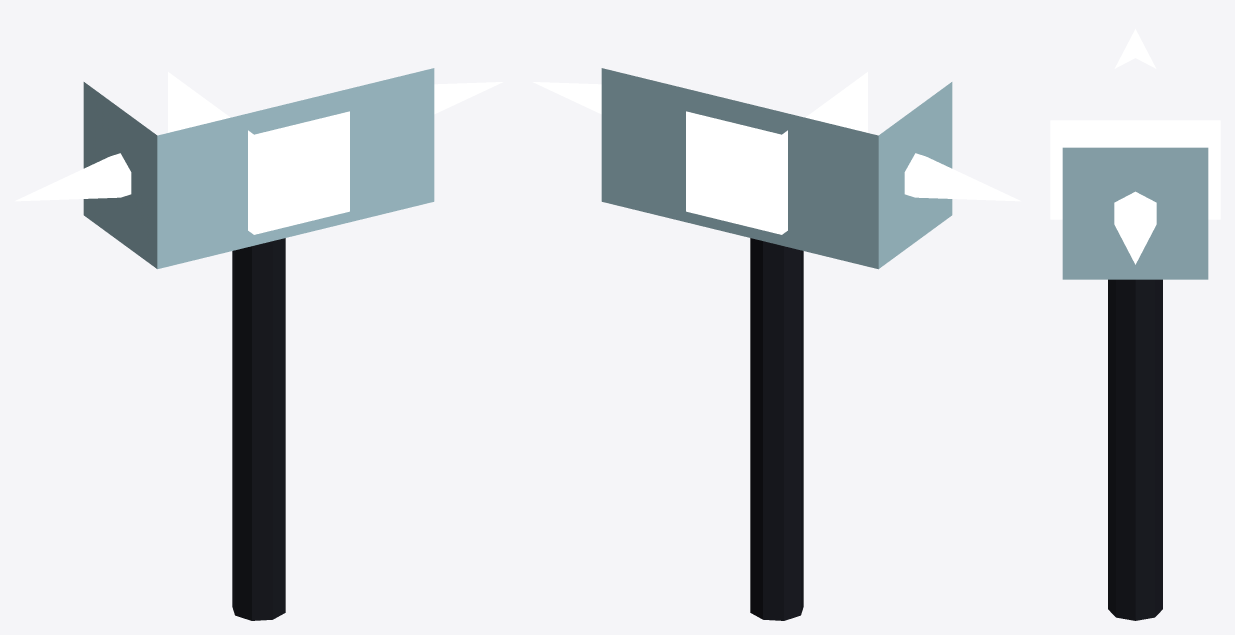
Rendered from mjollnir.glb.
The picture shows the model from 3 angles, left to right: view 1: azimuth 30°, elevation 25°; view 2: azimuth 150°, elevation 25°; view 3: azimuth 270°, elevation 25°; orthographic projection.
Parts seen in each view (by area): view 1: mjollnir-hammer-head, mjollnir-grip, mjollnir-core, mjollnir-spark-r, mjollnir-spark-l; view 2: mjollnir-hammer-head, mjollnir-grip, mjollnir-core, mjollnir-spark-r, mjollnir-spark-l; view 3: mjollnir-grip, mjollnir-hammer-head, mjollnir-core, mjollnir-spark-l, mjollnir-spark-r.
Part boxes in pixels (x1,y1,x2,y2): mjollnir-hammer-head: (83, 68, 434, 269); mjollnir-grip: (232, 238, 285, 620); mjollnir-core: (168, 72, 349, 234); mjollnir-spark-r: (15, 153, 131, 201); mjollnir-spark-l: (434, 82, 502, 114); mjollnir-hammer-head: (601, 68, 952, 269); mjollnir-grip: (750, 238, 803, 620); mjollnir-core: (686, 72, 867, 234); mjollnir-spark-r: (904, 153, 1020, 201); mjollnir-spark-l: (533, 82, 601, 114); mjollnir-grip: (1108, 279, 1162, 620); mjollnir-hammer-head: (1062, 147, 1208, 279); mjollnir-core: (1050, 120, 1220, 219); mjollnir-spark-l: (1114, 191, 1156, 264); mjollnir-spark-r: (1114, 29, 1156, 68).
Size of the model in its own units: 0.92 by 0.96 by 0.28.
